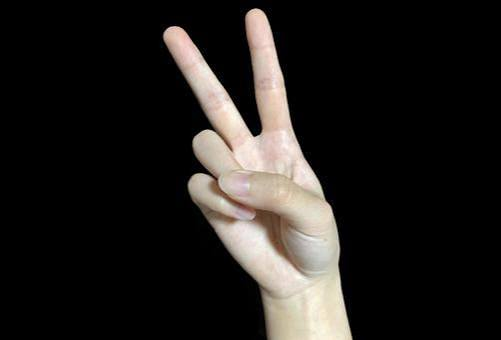peace_sign: (156, 5, 342, 305)
